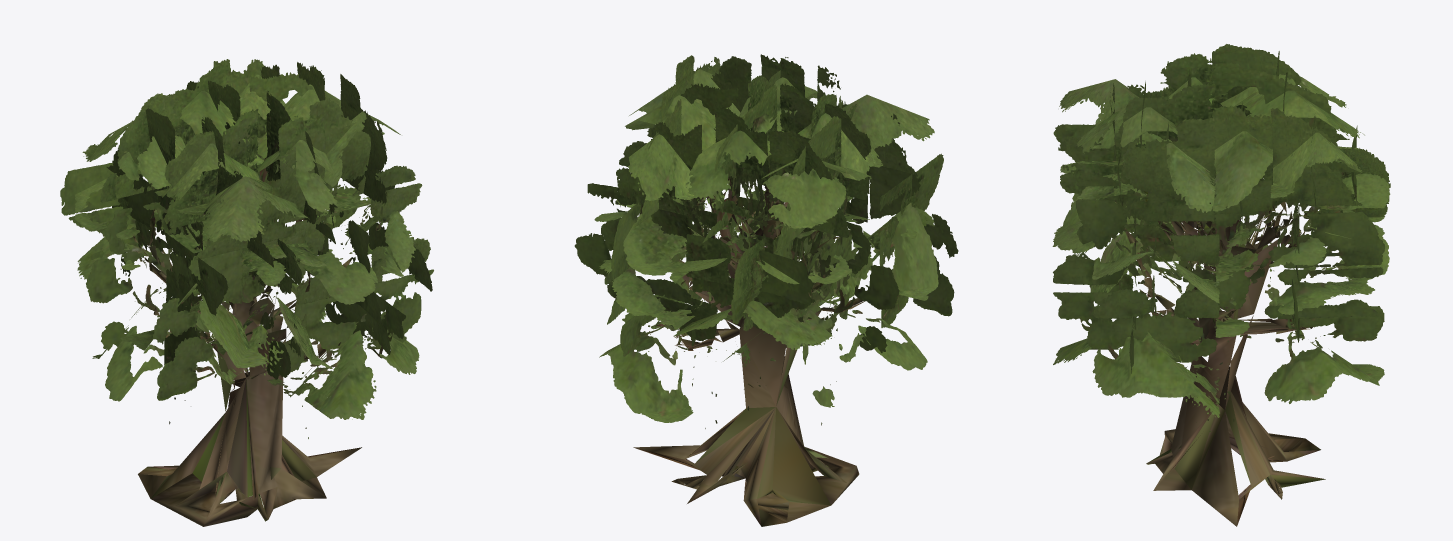
File: tree-1505-far.glb
3 views of the same model, side by side, from view 1: azimuth 30°, elevation 25°; view 2: azimuth 150°, elevation 25°; view 3: azimuth 270°, elevation 25° (orthographic). The views are drawn at different scales.
Visible parts, largest first — view 1: Foliage, Wood; view 2: Foliage, Wood; view 3: Foliage, Wood.
Boxes of the visible parts, x1,y1,x2,y2 form: Foliage: (60,59,433,438); Wood: (133,157,361,526); Foliage: (574,54,958,428); Wood: (633,168,864,526); Foliage: (1052,44,1390,431); Wood: (1124,191,1340,526).
Size of the model in its own units: 10.83 by 12.42 by 10.61.
Materials: 2 (2 with a texture image).
